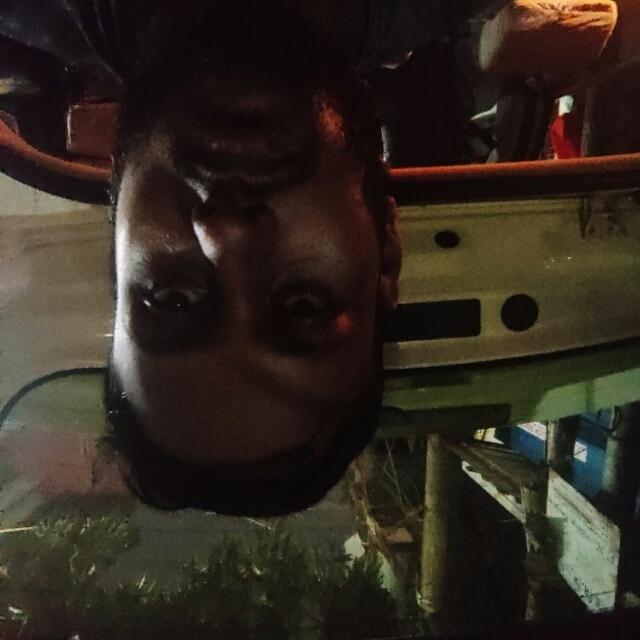Sad: (40, 19, 472, 524)
